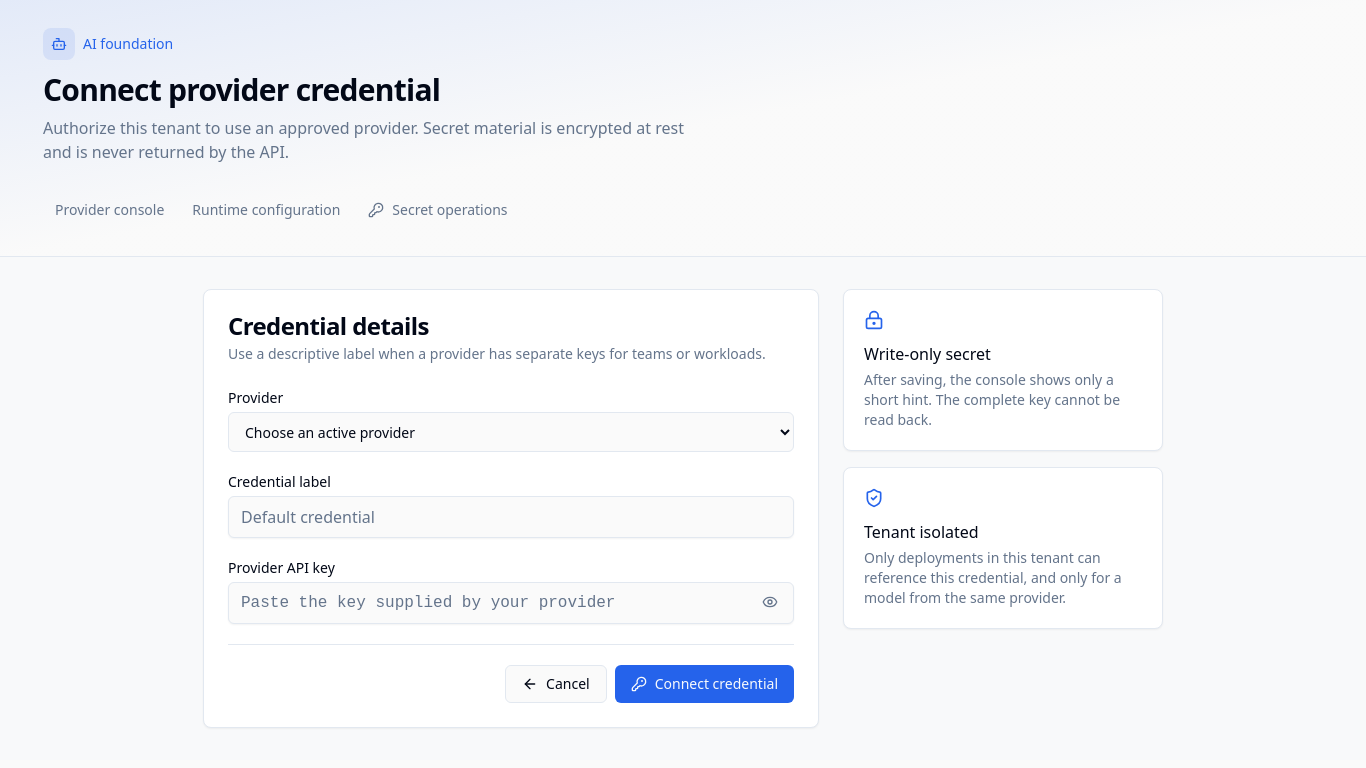
CreateAiProviderConfigurationResourcePage › validates the provider before submitting secret material
Click the button "Connect credential": (704, 684) x1=615 y1=665 x2=794 y2=703
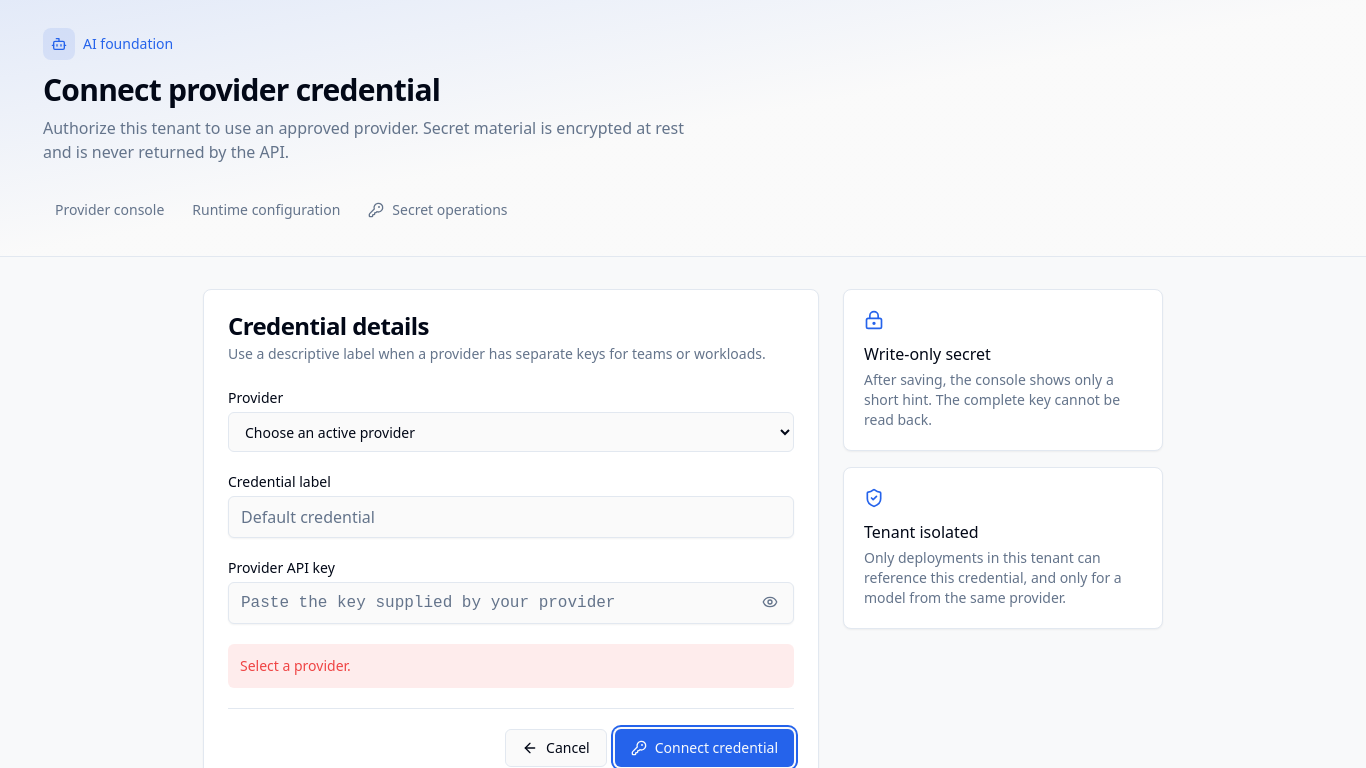
Expected: the message shows "Select a provider", x1=240 y1=656 x2=351 y2=675
